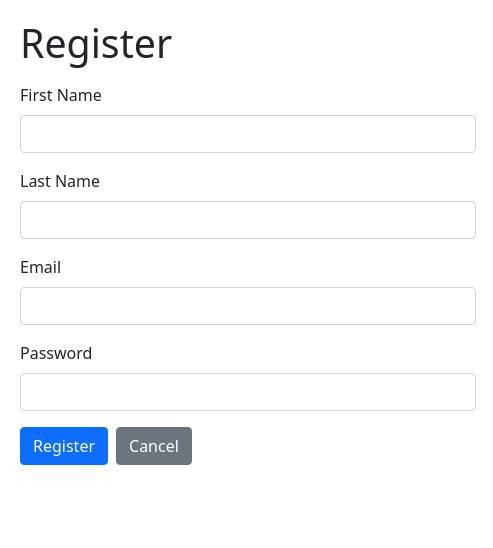
Test case: Login › Should not register if form is invalid
Expected: the heading "Register" is shown, [20,16,172,70]
Click the button "Register" at (64, 446), box [20,427,108,465]
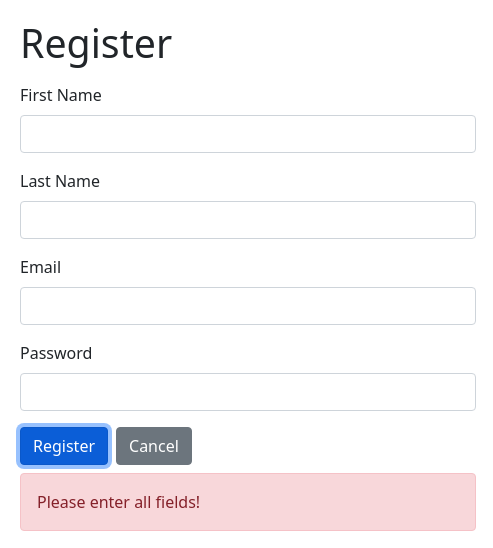
Now the text "Please enter all fields!" is shown, box [20,473,476,531]
